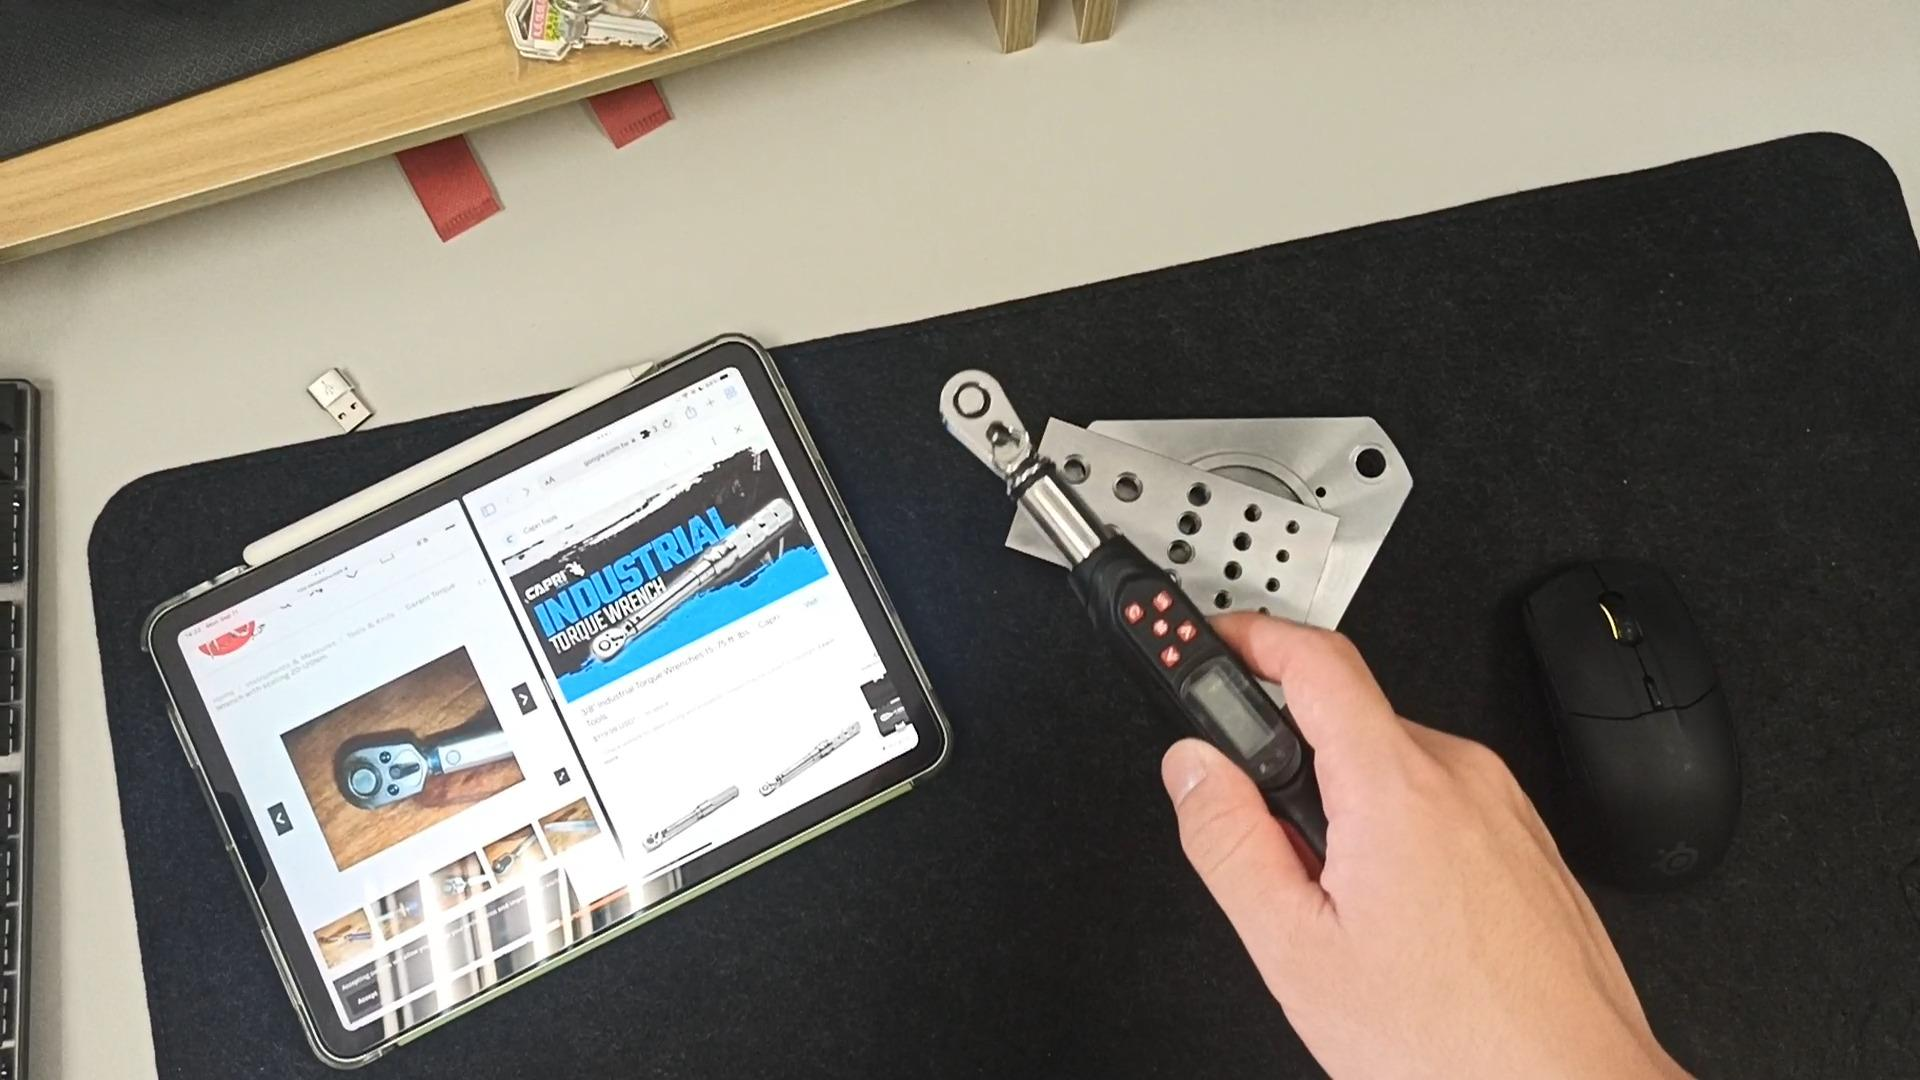Tool: (932, 365, 1036, 484), (335, 738, 425, 810), (591, 626, 628, 662)
hole: (1335, 444, 1399, 487), (1095, 469, 1151, 505), (1146, 535, 1196, 563), (1178, 483, 1221, 509), (1170, 510, 1213, 537), (1060, 452, 1091, 489), (1230, 500, 1270, 522), (1199, 588, 1236, 609), (1211, 559, 1246, 580), (1222, 529, 1258, 549), (1259, 542, 1292, 560), (1271, 516, 1304, 534), (1249, 575, 1280, 592), (1257, 605, 1275, 618)
